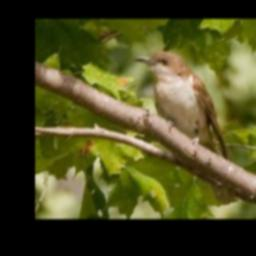Cuckoo: (133, 47, 239, 207)
